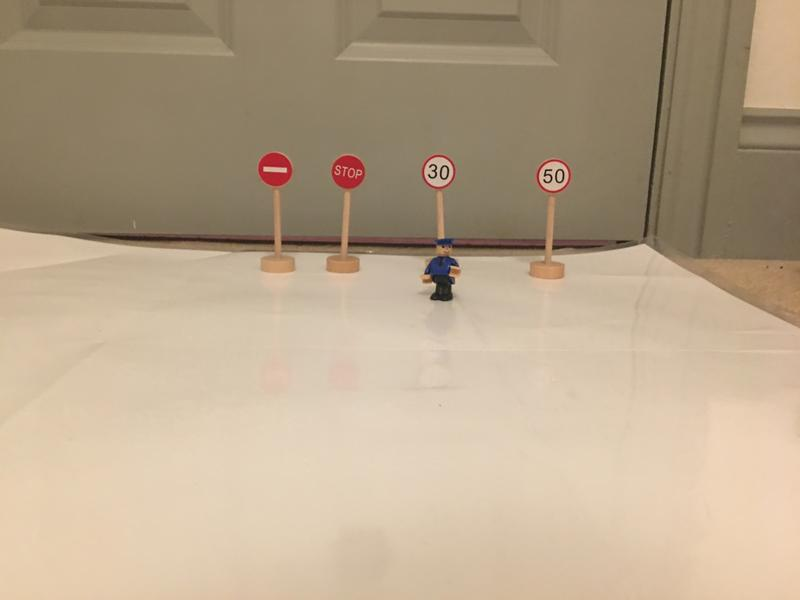Traffic_Sign_30: (423, 155, 455, 188)
Traffic_Sign_50: (537, 159, 571, 193)
Traffic_Sign_No_Entry: (258, 152, 293, 187)
Traffic_Sign_Stop: (330, 154, 365, 190)
person: (420, 237, 464, 301)
